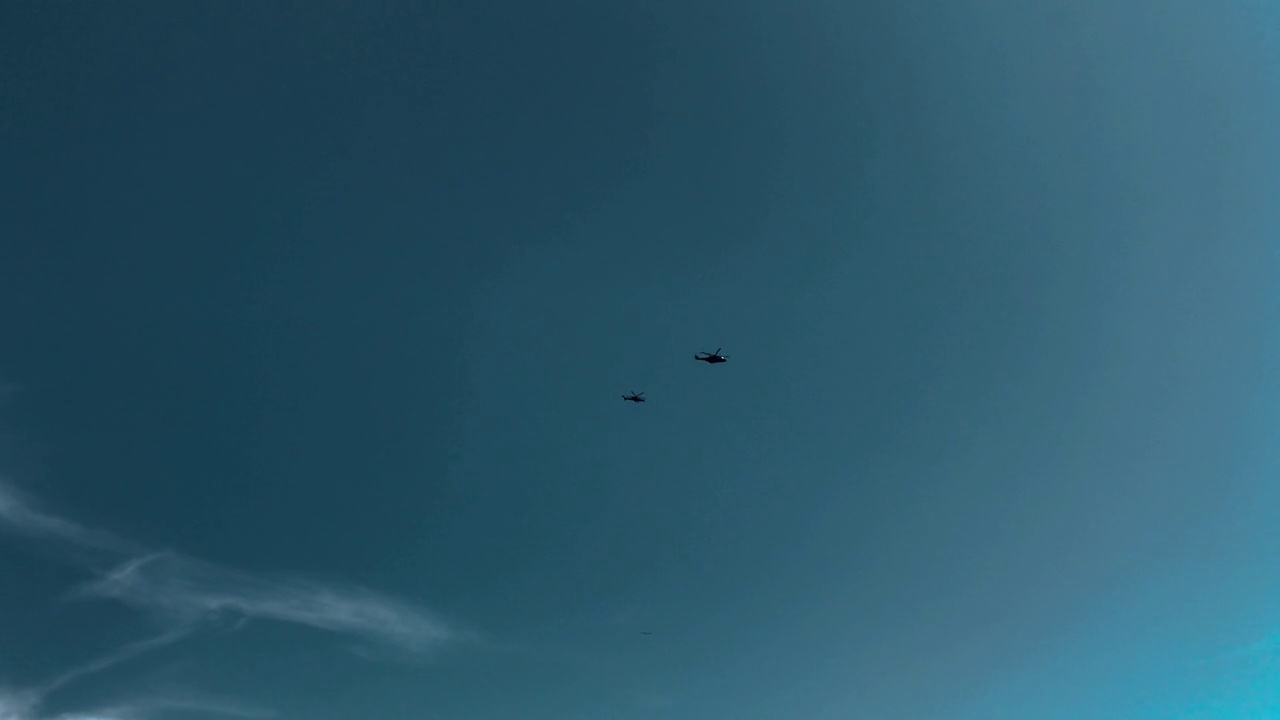heli: (693, 347, 728, 363), (621, 388, 645, 403)
